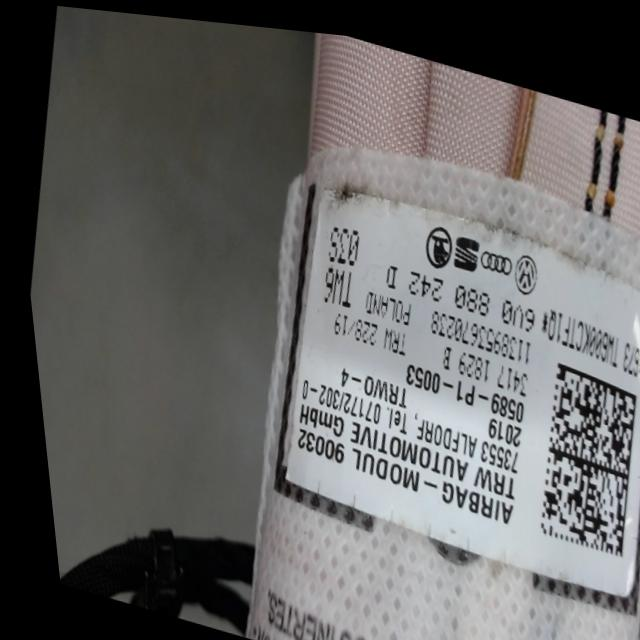datamatrix: (515, 347, 640, 548)
